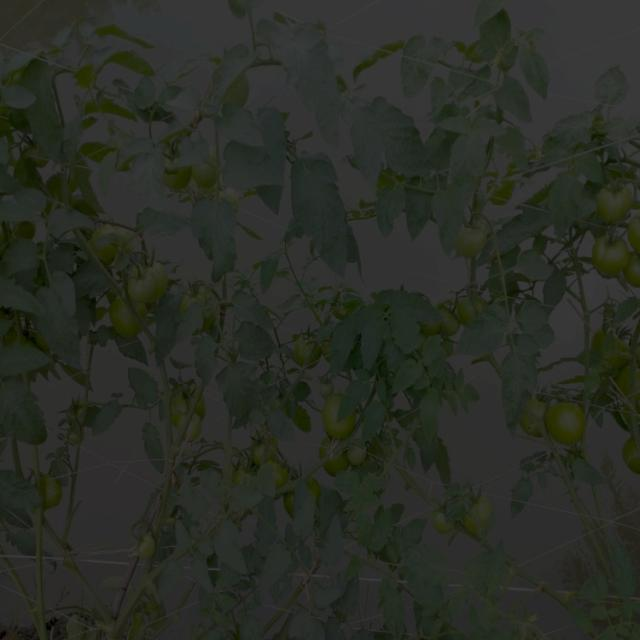tomato: (111, 269, 168, 340), (271, 467, 321, 518), (166, 388, 203, 439), (318, 393, 361, 435), (452, 219, 494, 261), (87, 223, 128, 266), (550, 403, 589, 446), (224, 70, 258, 118), (595, 177, 631, 222), (194, 145, 227, 190), (594, 237, 625, 280), (463, 494, 498, 531), (459, 287, 491, 327), (164, 151, 193, 195), (417, 306, 454, 338), (290, 332, 317, 368), (35, 473, 66, 504), (320, 440, 348, 474), (625, 427, 640, 484), (524, 398, 545, 436), (351, 440, 380, 463), (236, 461, 256, 492), (251, 432, 273, 457), (440, 500, 457, 532), (631, 229, 640, 286)
